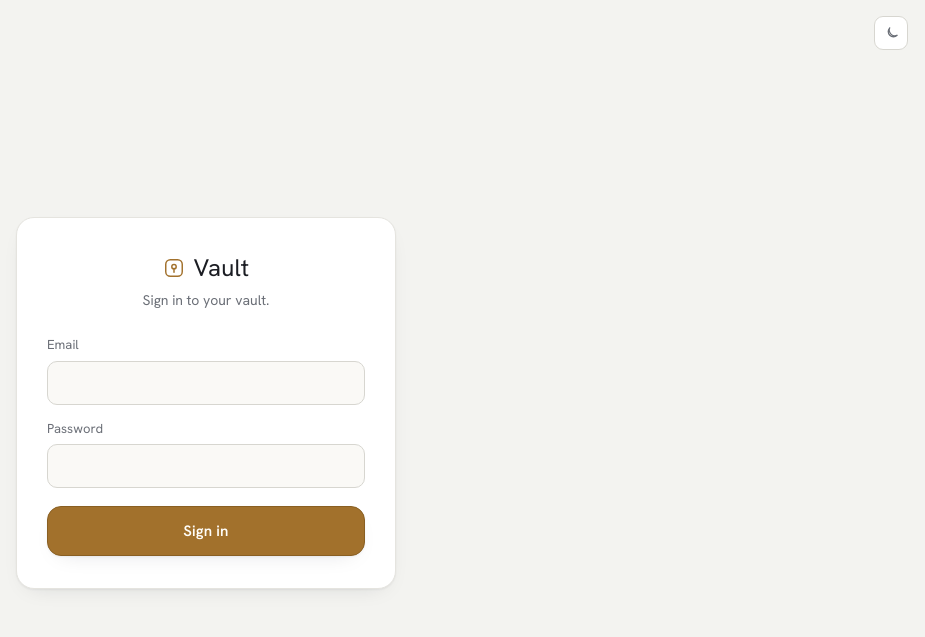
Test case: LoginPage › shows an error when sign in fails
Type "me@example.com" into the field labelled "Email". click: {"x": 206, "y": 382}
box: [47,360,365,404]
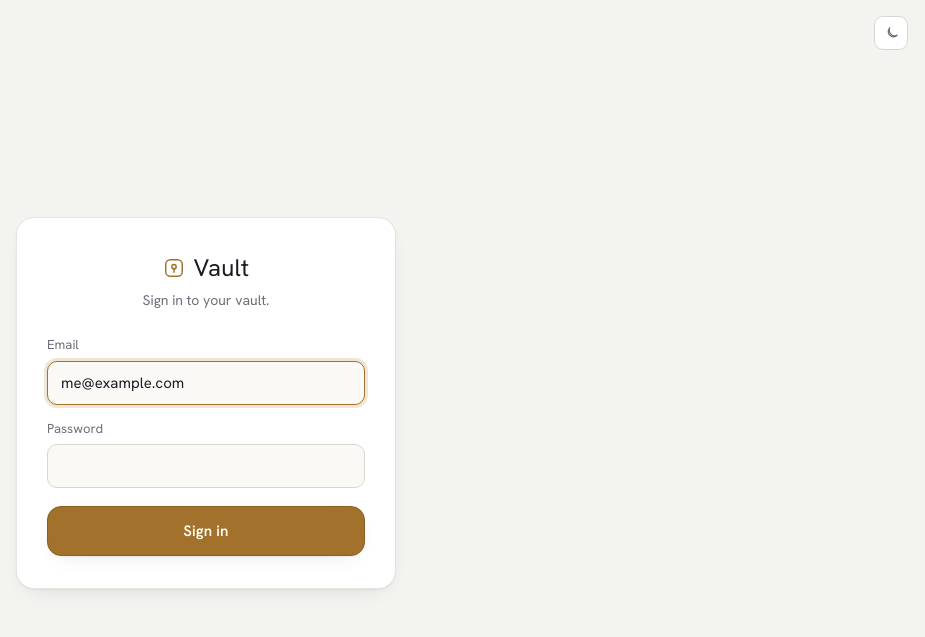
Type "secret" into the password field labelled "Password". click: {"x": 206, "y": 466}
box: [47,444,365,488]
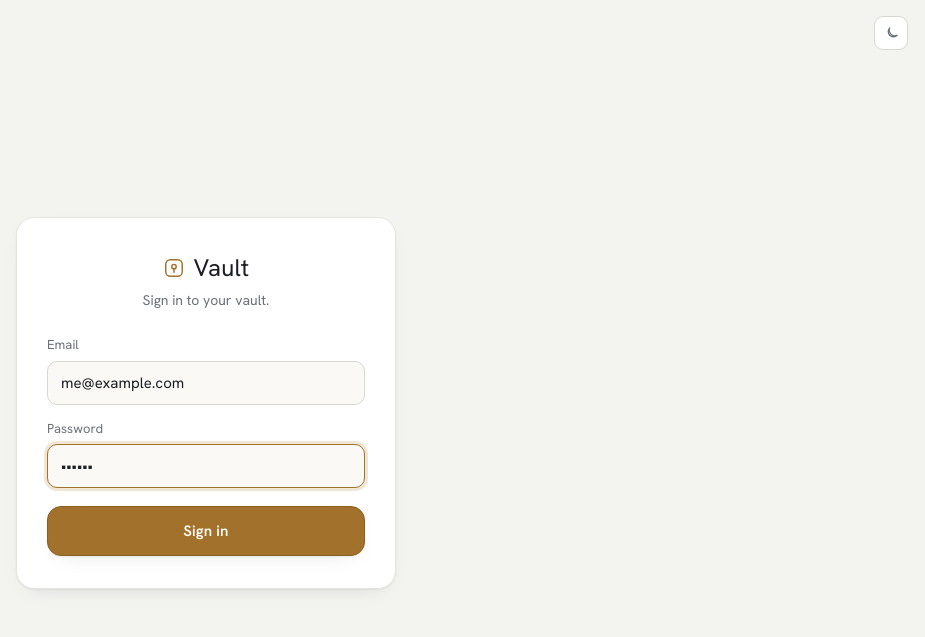
Click the button "Sign in". click: {"x": 206, "y": 531}
box: [47,506,365,556]
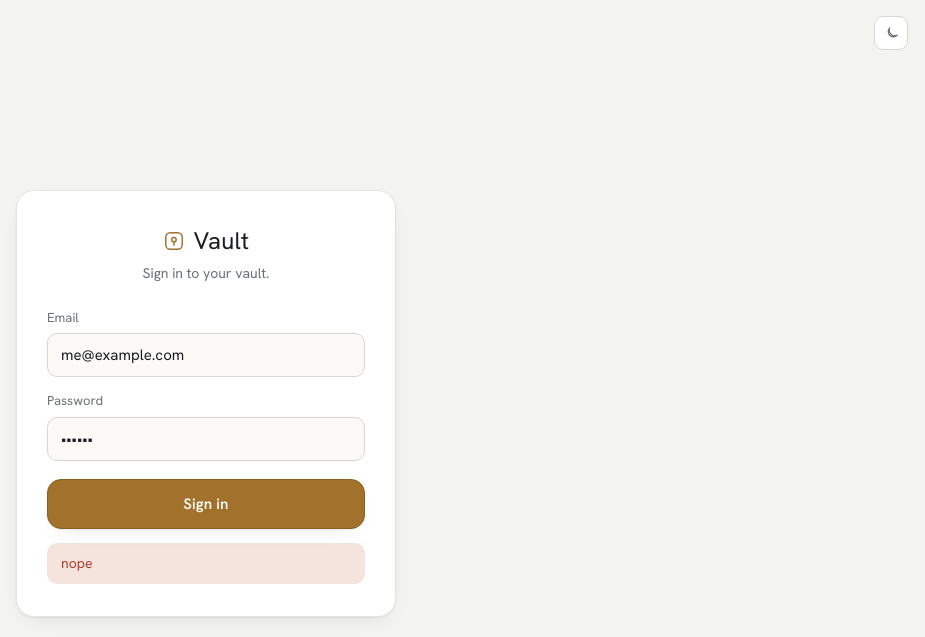
expect the message reads "nope": met, box [61,554,92,572]
